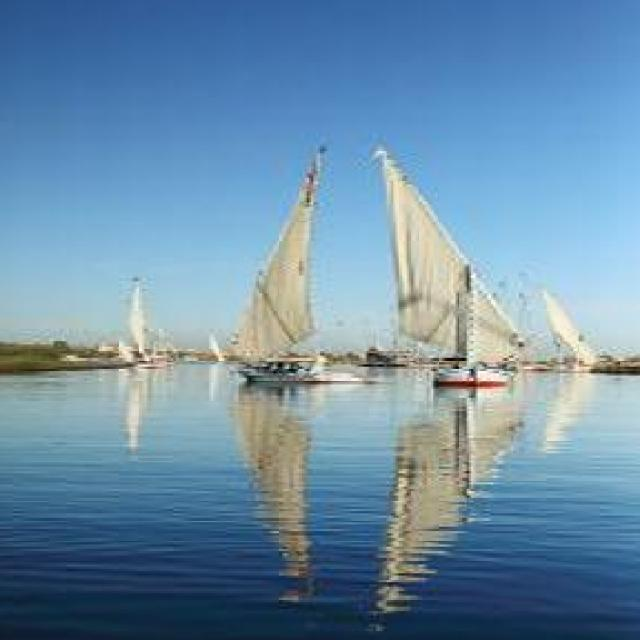sailboat: (382, 146, 528, 387), (224, 140, 339, 382), (115, 270, 179, 370), (536, 278, 604, 372), (200, 322, 230, 368)
